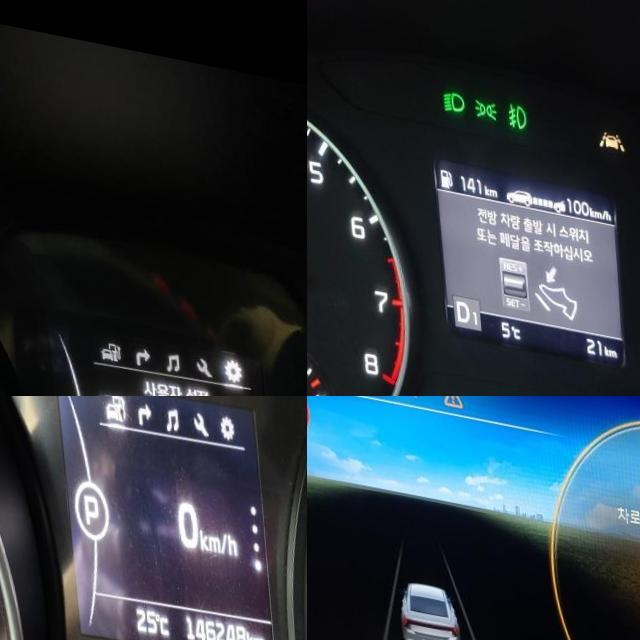Central Warning lamp: (438, 396, 459, 402)
FrontFogLight: (503, 87, 522, 118)
LaneCenteringOff: (592, 111, 621, 136)
Low beam: (437, 78, 461, 106)
SideLamp: (469, 84, 493, 110)
